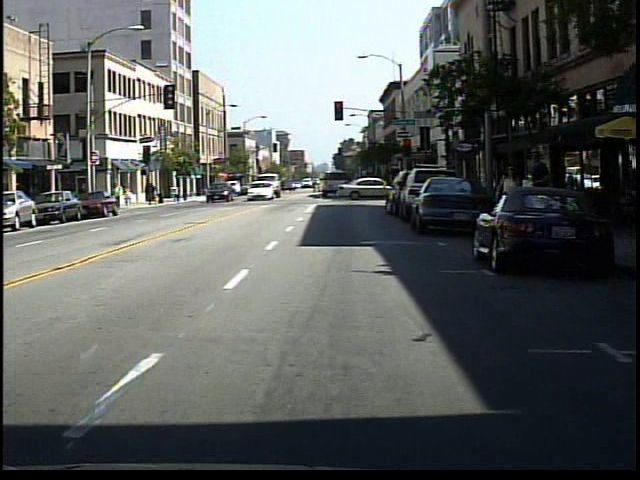person: (519, 144, 552, 250), (496, 155, 522, 247), (125, 184, 139, 211), (111, 180, 125, 204)
